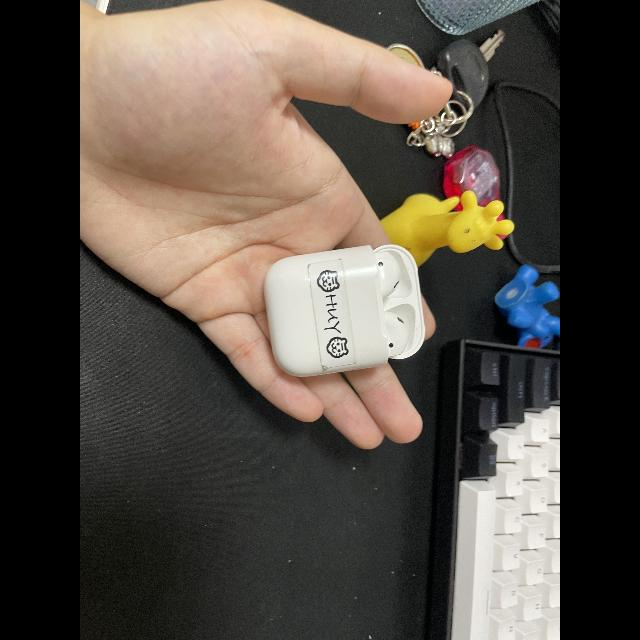airpod2: (260, 236, 430, 382)
